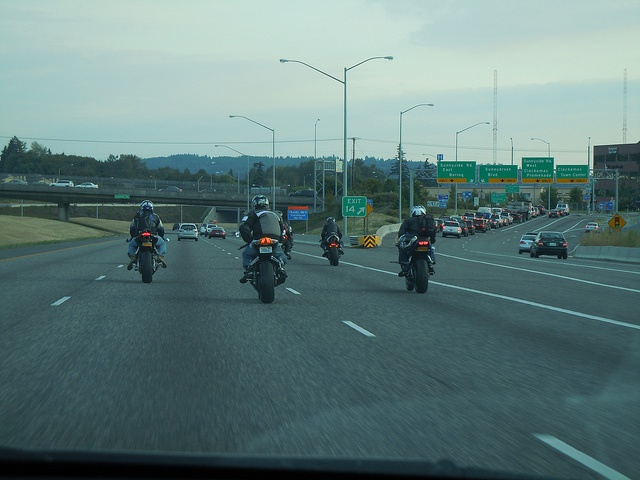non-vehicle: (248, 238, 285, 304), (403, 238, 436, 294), (132, 229, 162, 283), (325, 234, 341, 265), (280, 225, 294, 259)
